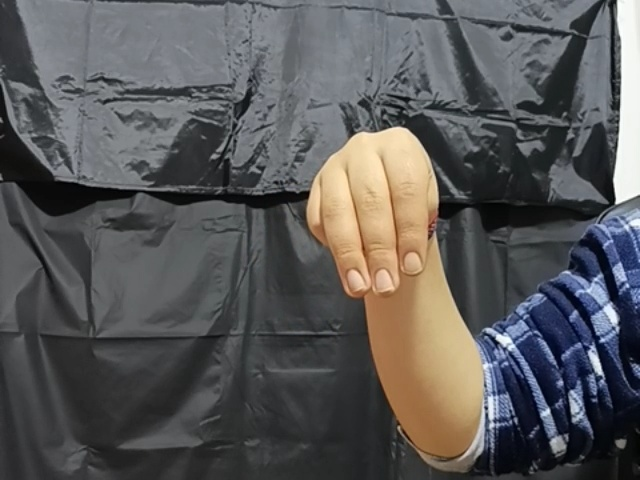M: (308, 124, 467, 303)
